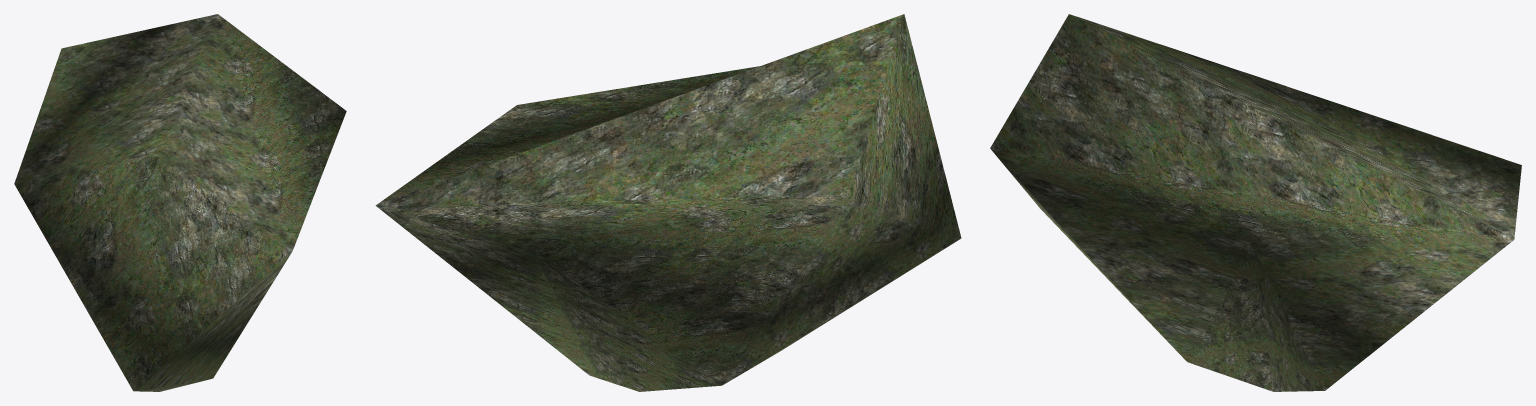
The model's file is mtns_rock_moss_a5_l2.fbx.
3 renders of one model, left to right at view 1: azimuth 30°, elevation 25°; view 2: azimuth 150°, elevation 25°; view 3: azimuth 270°, elevation 25°, orthographic. The views are drawn at different scales.
Parts seen in each view (by area): view 1: mesh_node; view 2: mesh_node; view 3: mesh_node.
Boxes of the visible parts, left/top/right/bottom form: mesh_node: left=14, top=14, right=346, bottom=391; mesh_node: left=375, top=14, right=961, bottom=391; mesh_node: left=990, top=14, right=1521, bottom=391.
Bounding box in the file's own units: 0.6691 × 0.5715 × 0.9406.
